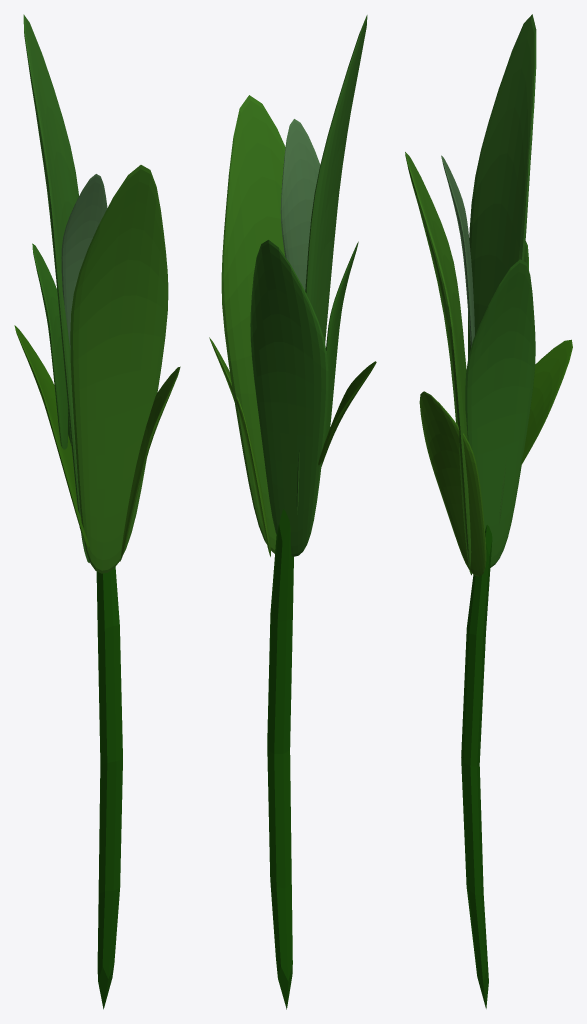
File: potato_1.glb
The picture shows the model from 3 angles, left to right: view 1: azimuth 30°, elevation 25°; view 2: azimuth 210°, elevation 25°; view 3: azimuth 270°, elevation 25°; orthographic projection. The views are drawn at different scales.
Parts seen in each view (by area): view 1: Plane, Plane.007, Plane.002, Plane.003, Plane.004, Plane.005, Plane.006; view 2: Plane.001, Plane, Plane.007, Plane.002, Plane.003, Plane.004, Plane.006, Plane.005; view 3: Plane.001, Plane.002, Plane.007, Plane.006, Plane, Plane.005, Plane.003.
Boxes of the visible parts, bbox=[...] form: Plane: bbox=[70, 165, 168, 573]; Plane.007: bbox=[96, 567, 122, 1009]; Plane.002: bbox=[23, 14, 89, 562]; Plane.003: bbox=[61, 174, 107, 349]; Plane.004: bbox=[32, 243, 67, 449]; Plane.005: bbox=[14, 325, 89, 548]; Plane.006: bbox=[120, 366, 180, 561]; Plane.001: bbox=[250, 240, 328, 556]; Plane: bbox=[221, 95, 285, 553]; Plane.007: bbox=[267, 509, 293, 1009]; Plane.002: bbox=[296, 15, 367, 514]; Plane.003: bbox=[280, 119, 320, 290]; Plane.004: bbox=[324, 241, 358, 443]; Plane.006: bbox=[209, 337, 270, 556]; Plane.005: bbox=[318, 361, 376, 466]; Plane.001: bbox=[465, 259, 535, 567]; Plane.002: bbox=[468, 14, 536, 524]; Plane.007: bbox=[461, 525, 492, 1008]; Plane.006: bbox=[419, 391, 486, 576]; Plane: bbox=[405, 152, 471, 575]; Plane.005: bbox=[521, 339, 572, 465]; Plane.003: bbox=[441, 155, 474, 347].
Size of the model in its own units: 0.1202 by 1.04 by 0.164.
